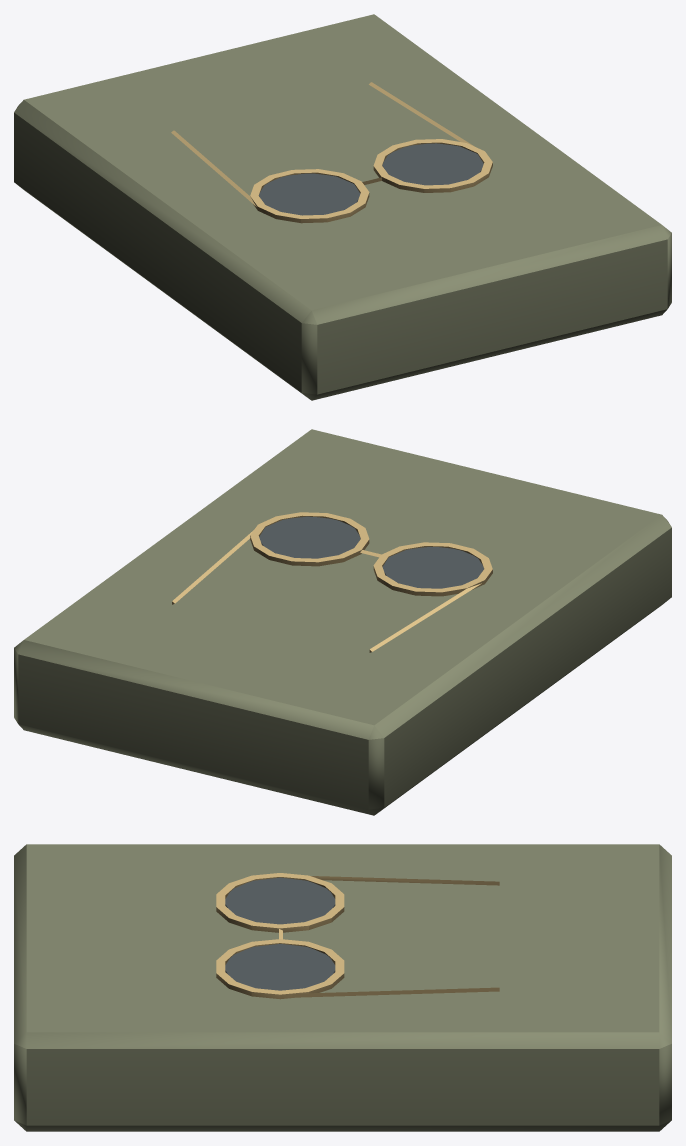
Rendered from reading_glasses.glb.
The picture shows the model from 3 angles, top to bottom: view 1: azimuth 30°, elevation 25°; view 2: azimuth 150°, elevation 25°; view 3: azimuth 270°, elevation 25°; orthographic projection. The views are drawn at different scales.
Parts seen in each view (by area): view 1: static; view 2: static; view 3: static.
Part boxes in pixels (x1,y1,x2,y2): static: (14,14,671,400); static: (14,429,671,815); static: (14,844,671,1131).
Bounding box in the file's own units: 0.15 × 0.0366 × 0.21.
